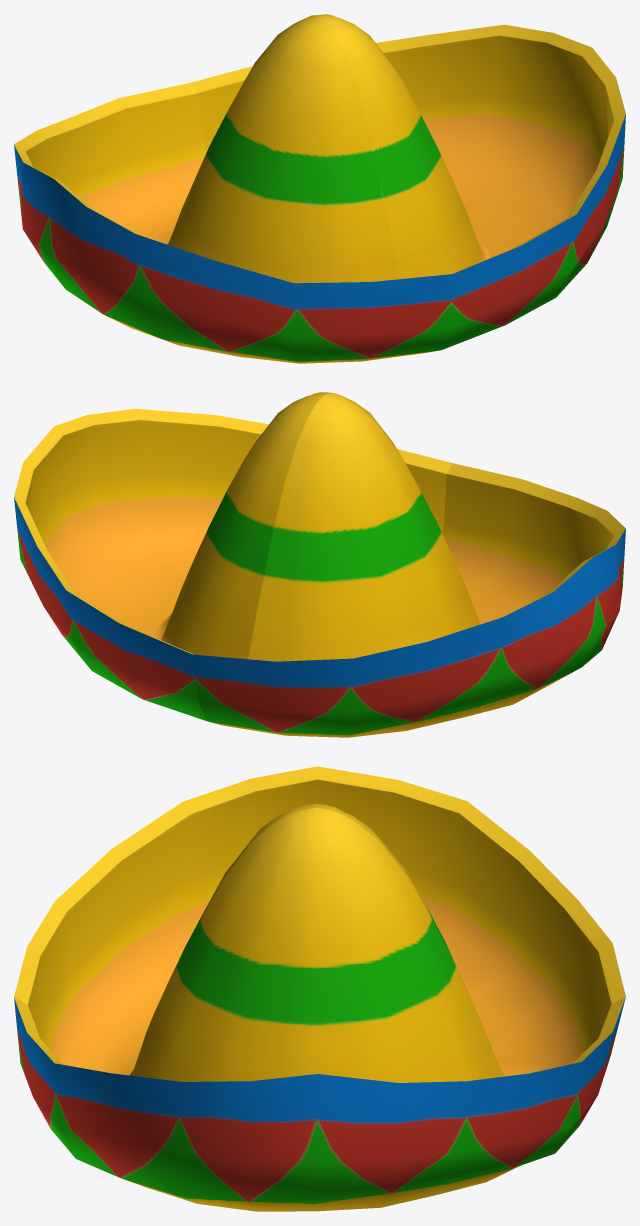
The model's file is hat_05.fbx.
3 views of the same model, one above another, from view 1: azimuth 30°, elevation 25°; view 2: azimuth 150°, elevation 25°; view 3: azimuth 270°, elevation 25° (orthographic). The views are drawn at different scales.
Visible parts, largest first — view 1: hat_05; view 2: hat_05; view 3: hat_05.
Part boxes in pixels (<box>): hat_05: <box>14,14,625,363</box>; hat_05: <box>14,392,625,737</box>; hat_05: <box>14,766,625,1211</box>.
Size of the model in its own units: 112 by 50.38 by 91.38.
